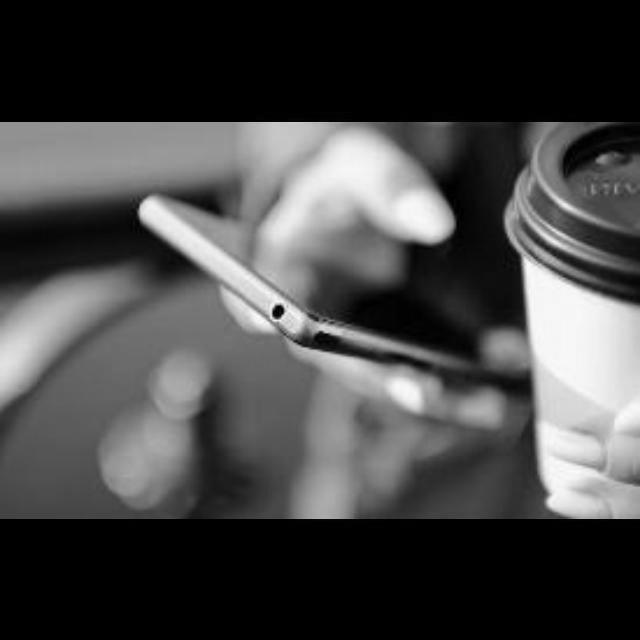fake: (106, 151, 554, 467)
